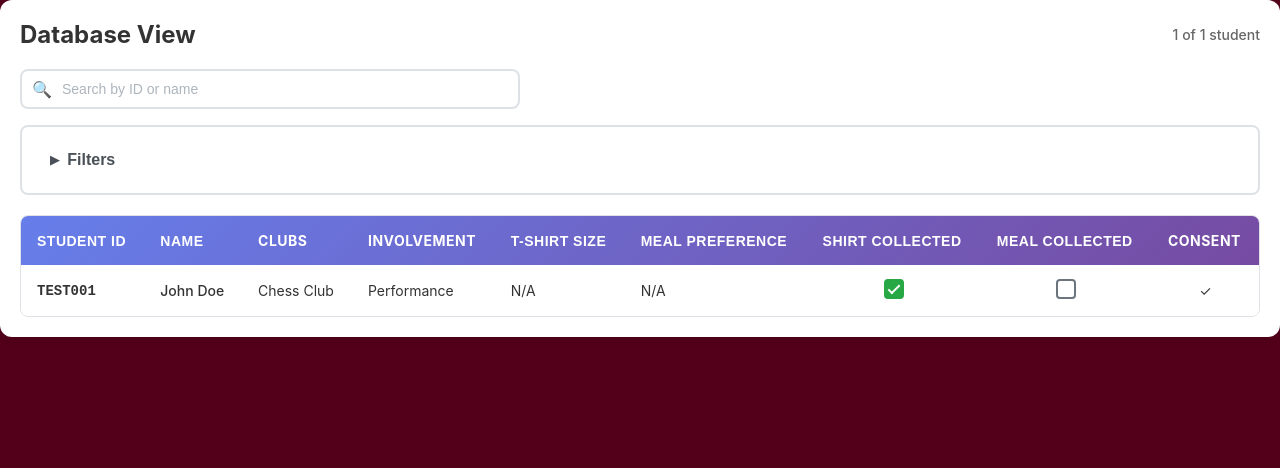
Scenario: DatabaseTableView › Empty State › should display empty state when search/filter returns no results
Check: the text "TEST001" is shown, box left=21, top=265, right=144, bottom=316
Note: Search for non-existent student
Type "NonExistent" into the search field at (270, 89), box left=20, top=69, right=520, bottom=109
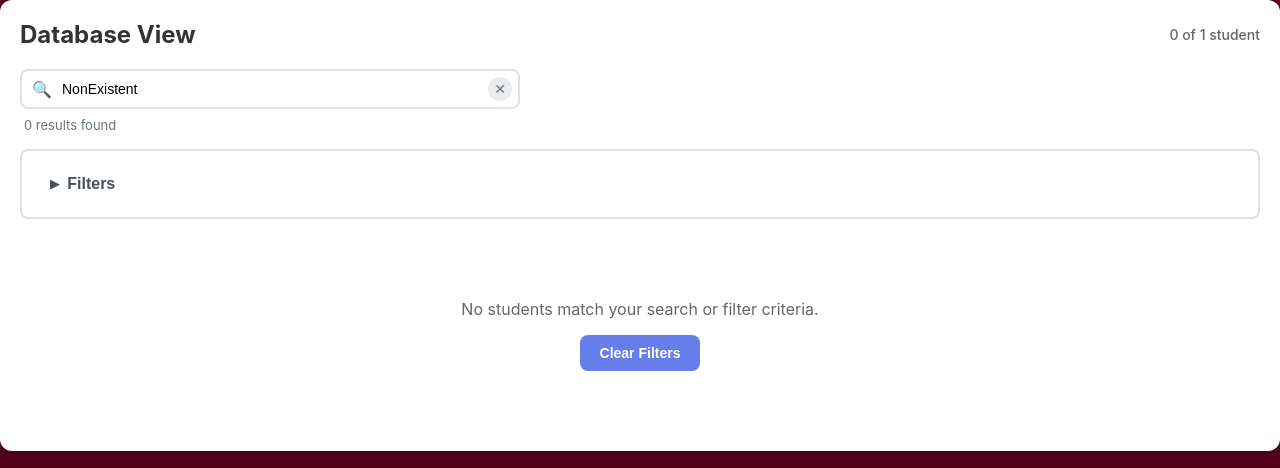
Check: the text "No students match your search or filter criteria." is shown, box left=461, top=299, right=819, bottom=319
